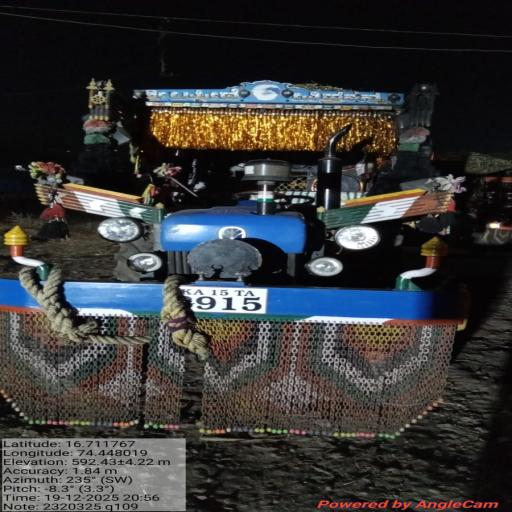number_plate: (169, 281, 285, 314)
